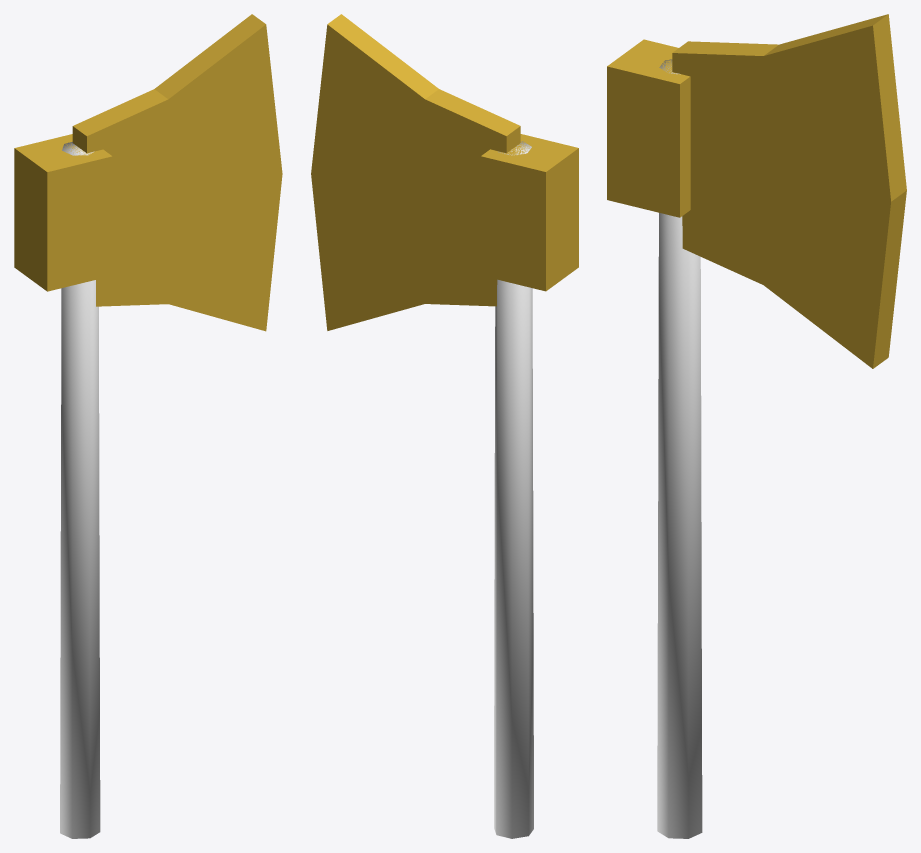
Rendered from gold_axe.glb.
3 renders of one model, left to right at view 1: azimuth 30°, elevation 25°; view 2: azimuth 150°, elevation 25°; view 3: azimuth 330°, elevation 25°, orthographic. The views are drawn at different scales.
Parts seen in each view (by area): view 1: gold_axe_v0; view 2: gold_axe_v0; view 3: gold_axe_v0.
Boxes of the visible parts, x1,y1,x2,y2 form: gold_axe_v0: (14,14,282,838); gold_axe_v0: (311,14,578,838); gold_axe_v0: (607,14,906,838).
Size of the model in its own units: 0.3 by 0.9 by 0.07.
